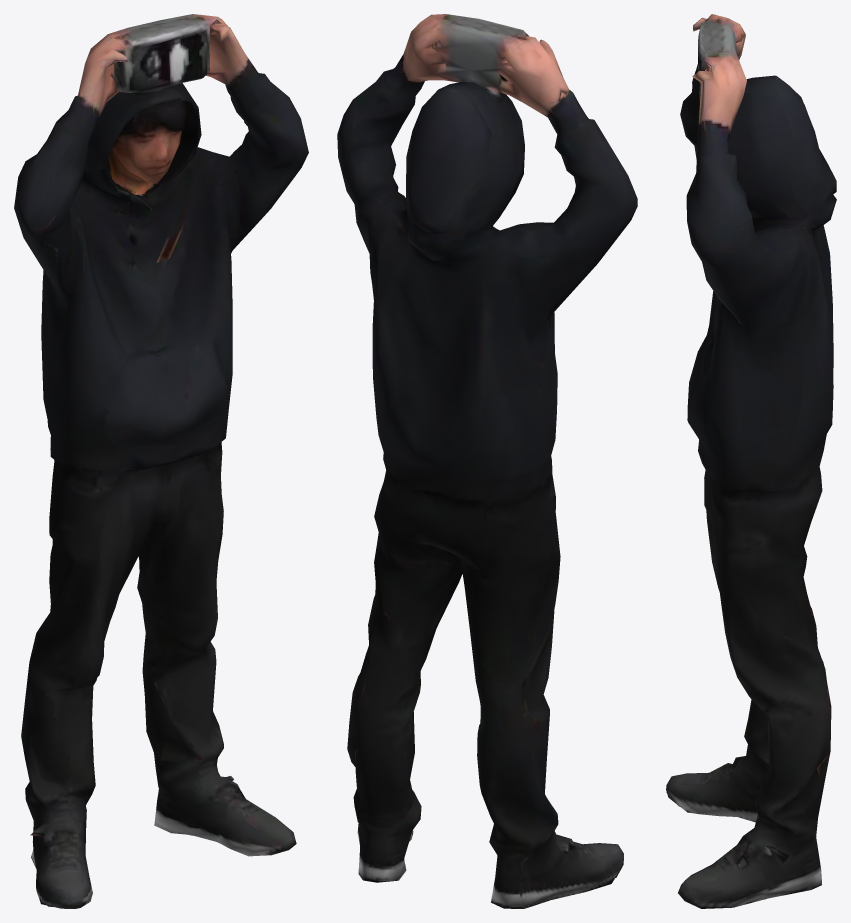
Rendered from fan-phone-s2.lo.glb.
The picture shows the model from 3 angles, left to right: view 1: azimuth 30°, elevation 25°; view 2: azimuth 150°, elevation 25°; view 3: azimuth 270°, elevation 25°; orthographic projection. The views are drawn at different scales.
Visible parts, largest first — view 1: geometry_0; view 2: geometry_0; view 3: geometry_0.
Part boxes in pixels (x1,y1,x2,y2): geometry_0: [14, 14, 308, 908]; geometry_0: [337, 14, 637, 908]; geometry_0: [666, 14, 836, 908].
Bounding box in the file's own units: 0.3625 × 1 × 0.1898.
Materials: 1 (1 with a texture image).
